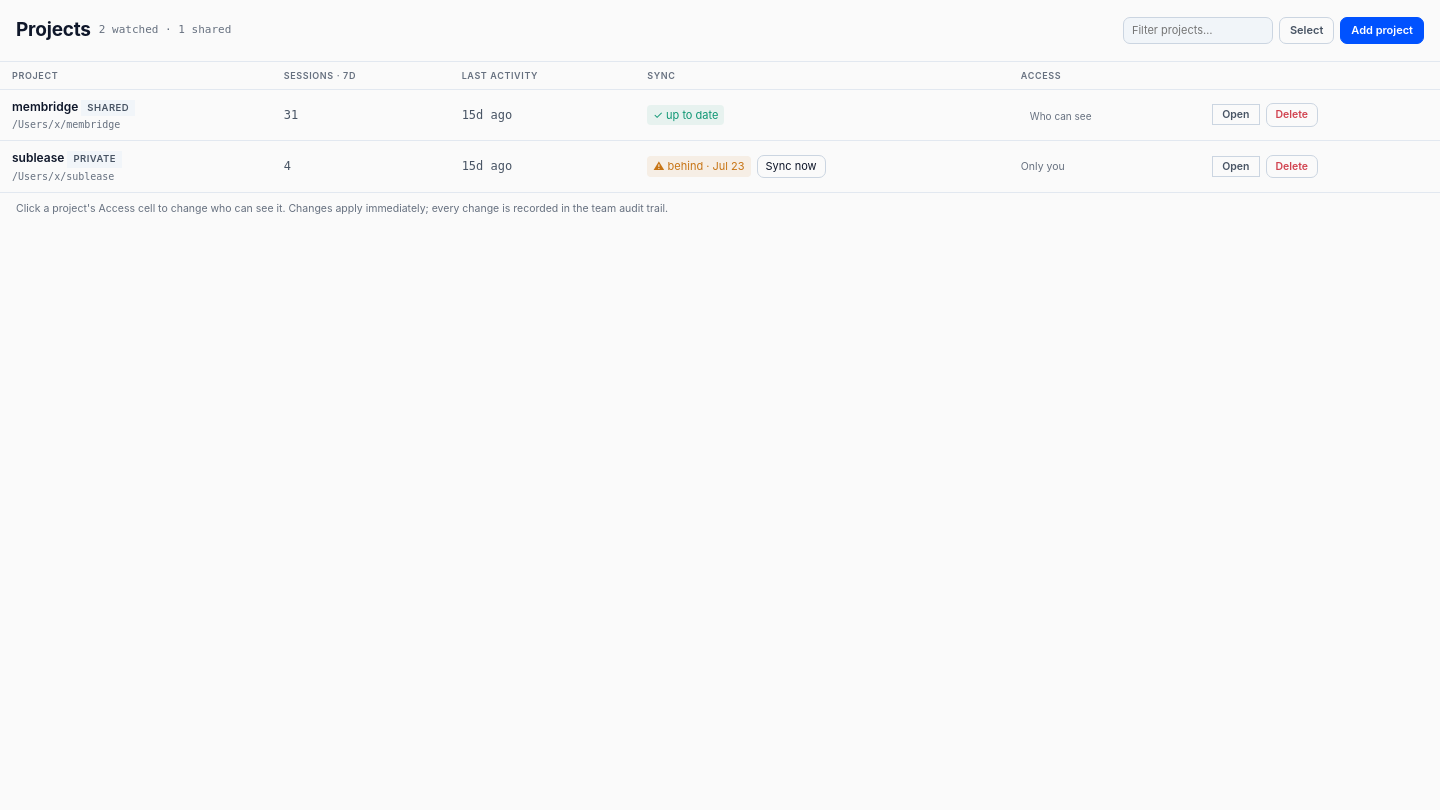
it: Access cell honesty (C4) › asks for one project's access only once its popover opens, never on load
Click the button with aria-label "access for membridge": (1061, 116) [1021,106,1100,127]
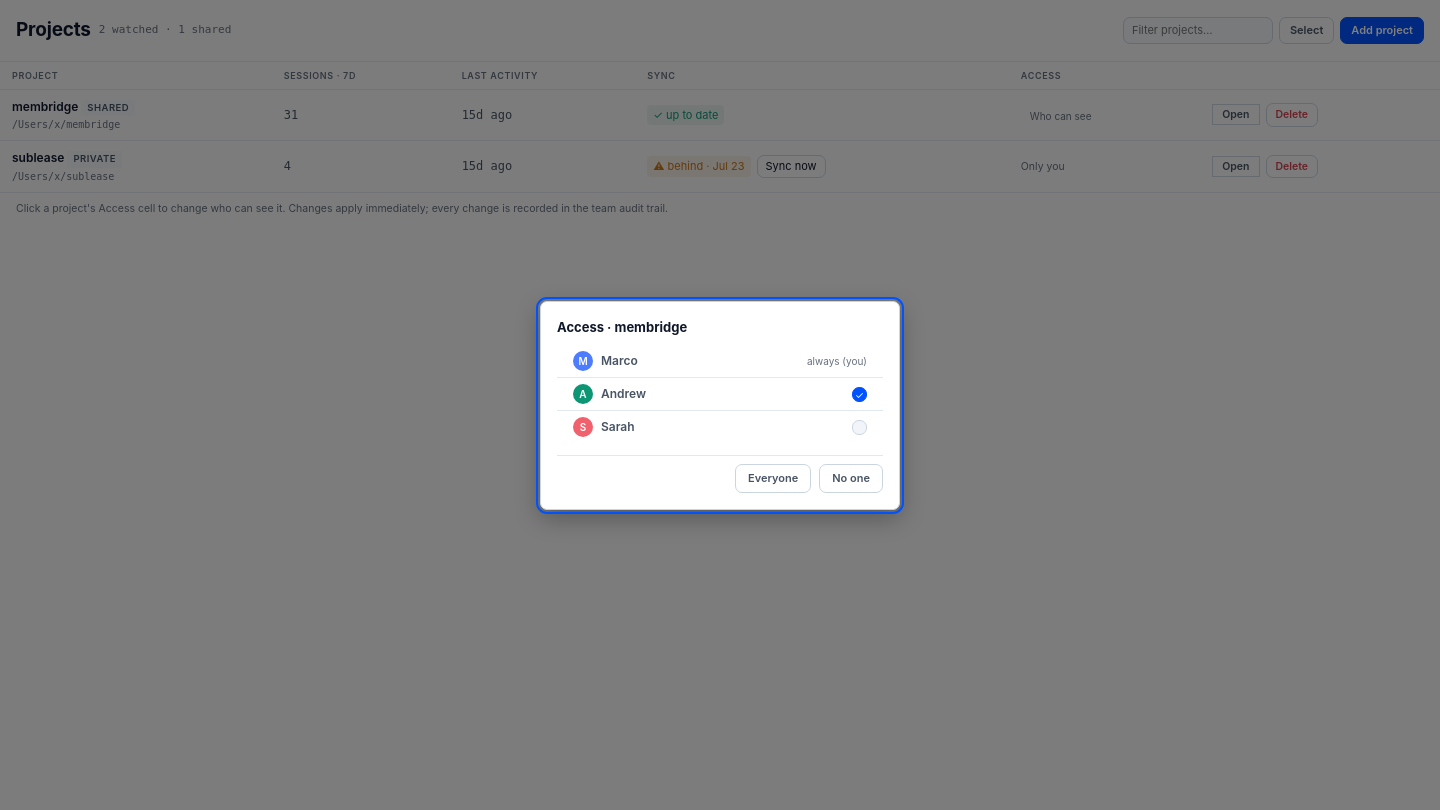
Expected: the text "Andrew" is shown, [601,386,646,401]
Expected: the checkbox named "Sarah can see this project" is not checked, [852,420,867,434]
